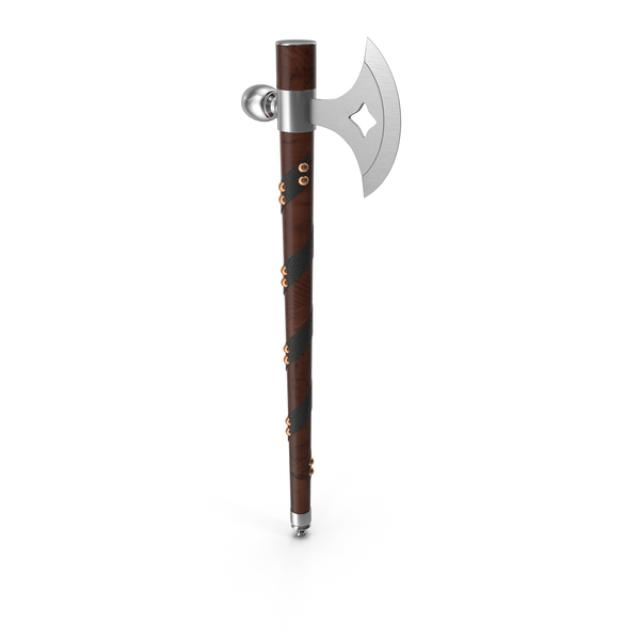Gun: (231, 19, 397, 551)
